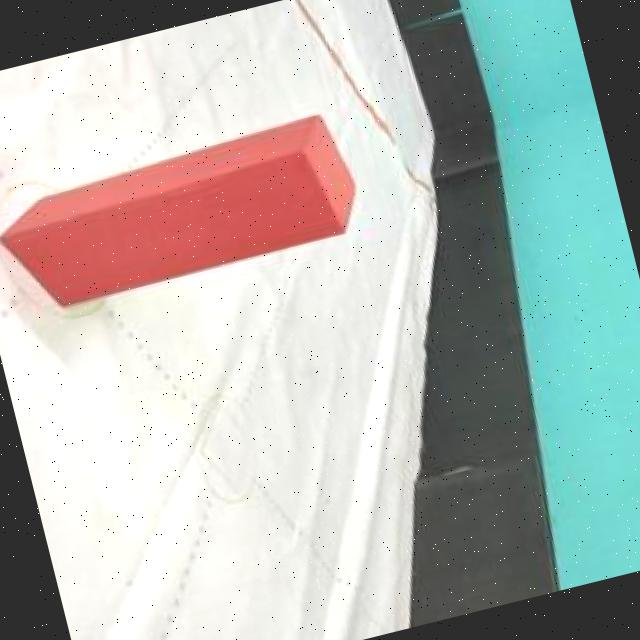redbox: (0, 111, 367, 318)
